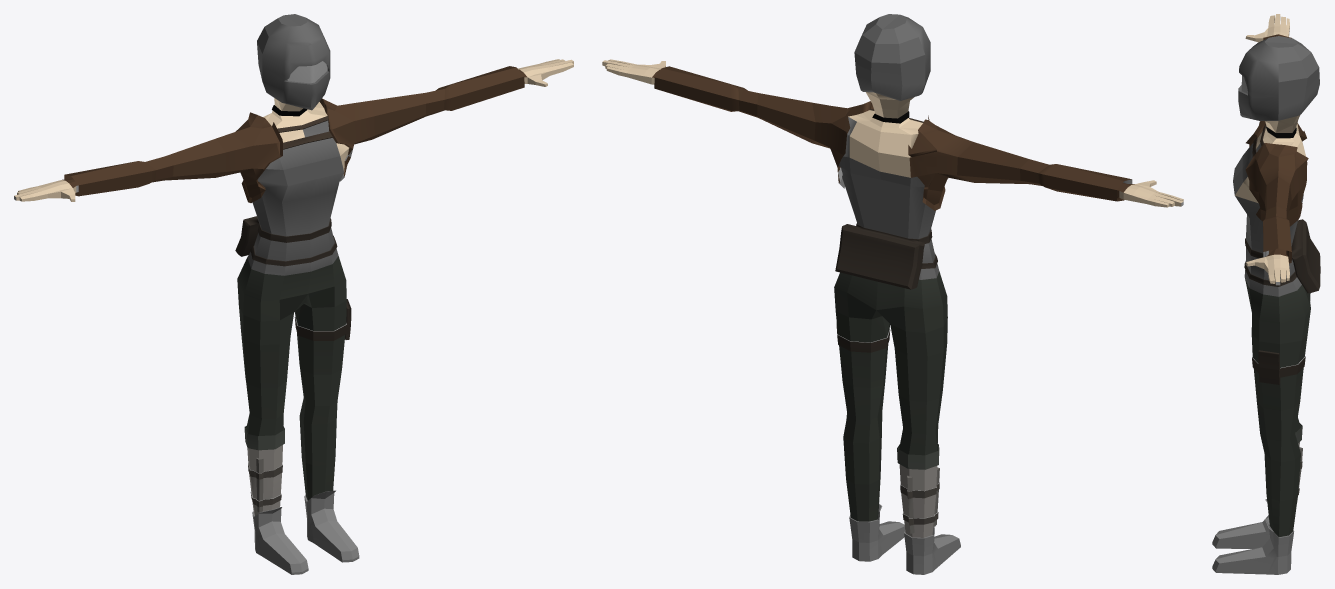
Rendered from JoyceModel.fbx.
3 renders of one model, left to right at view 1: azimuth 30°, elevation 25°; view 2: azimuth 150°, elevation 25°; view 3: azimuth 270°, elevation 25°, orthographic. The views are drawn at different scales.
Visible parts, largest first — view 1: Joyce; view 2: Joyce; view 3: Joyce.
Boxes of the visible parts, x1,y1,x2,y2 form: Joyce: [14, 14, 573, 574]; Joyce: [602, 14, 1183, 574]; Joyce: [1212, 14, 1320, 574].
Bounding box in the file's own units: 194 × 173 × 33.06.
